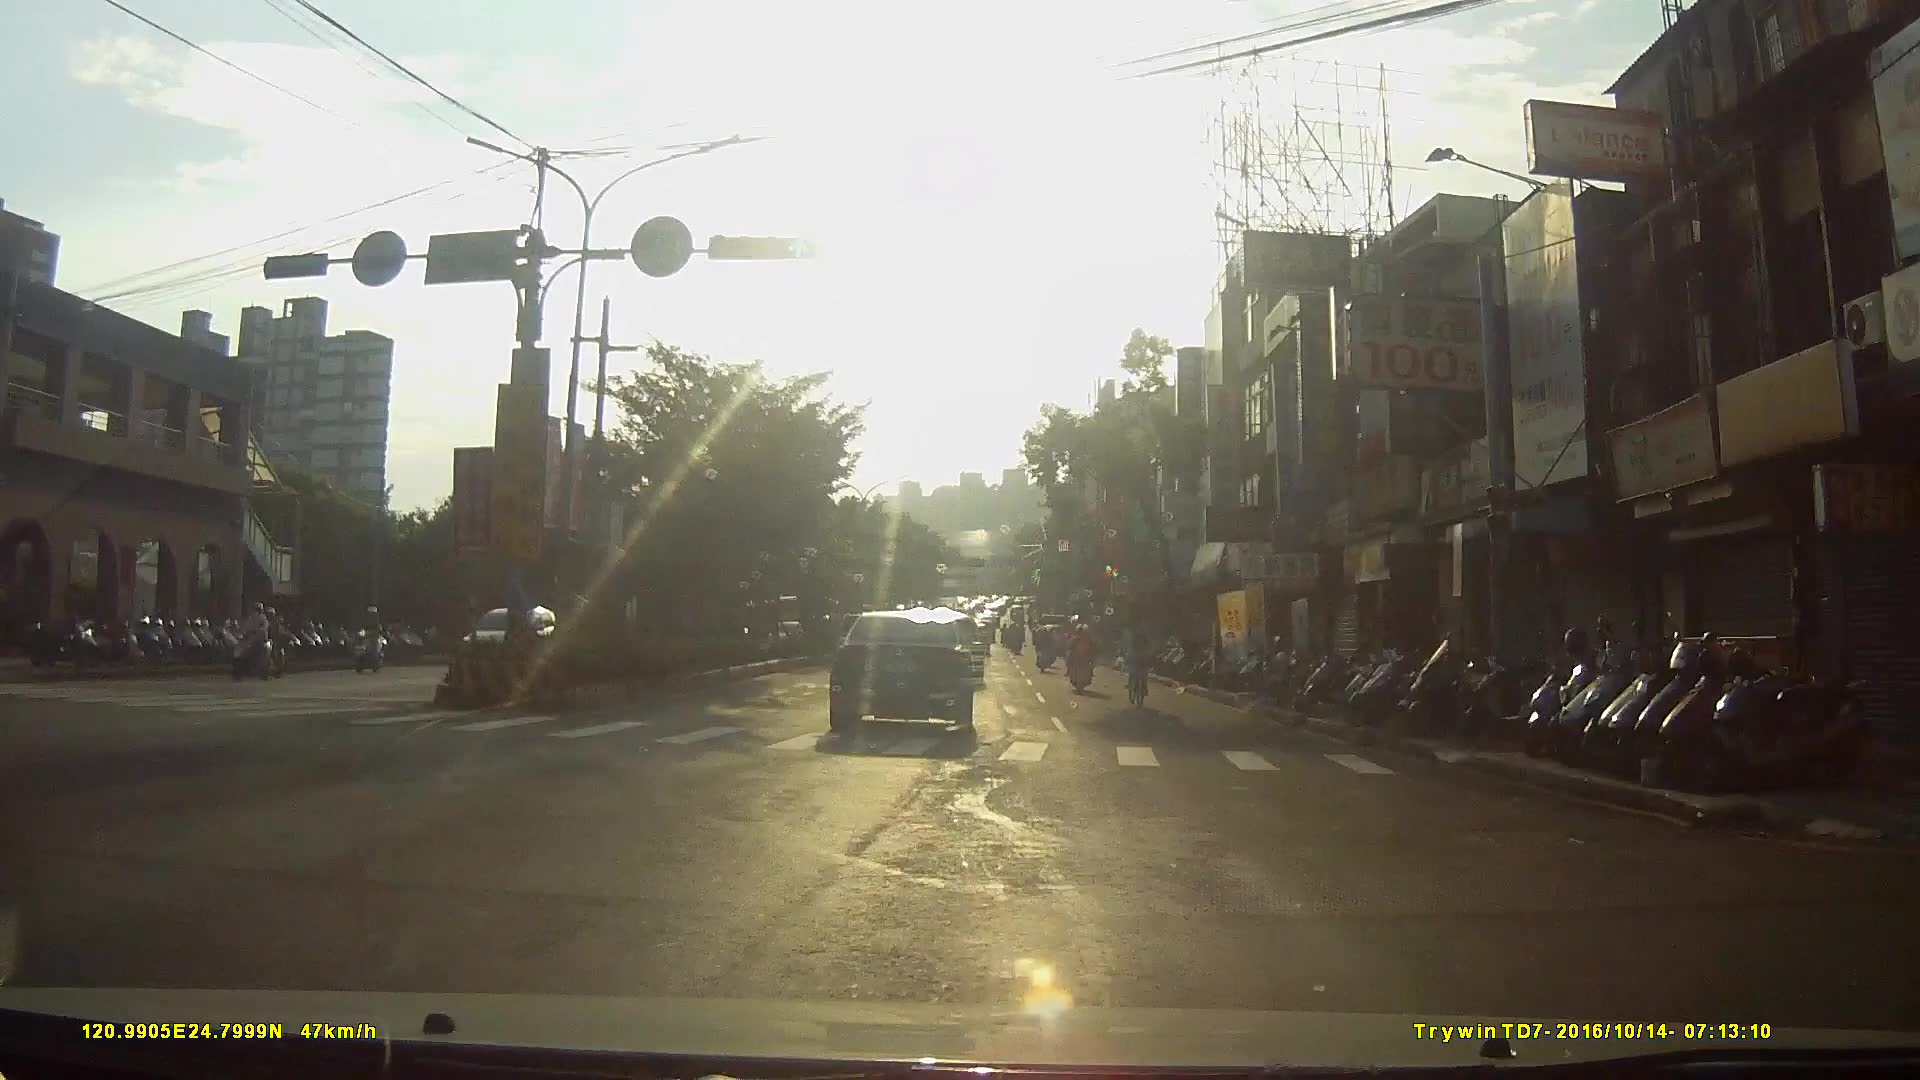rider: (231, 608, 284, 688), (1120, 622, 1156, 717), (356, 605, 389, 675), (1069, 625, 1096, 698), (1032, 625, 1059, 680)
vehicle: (833, 609, 990, 753)
